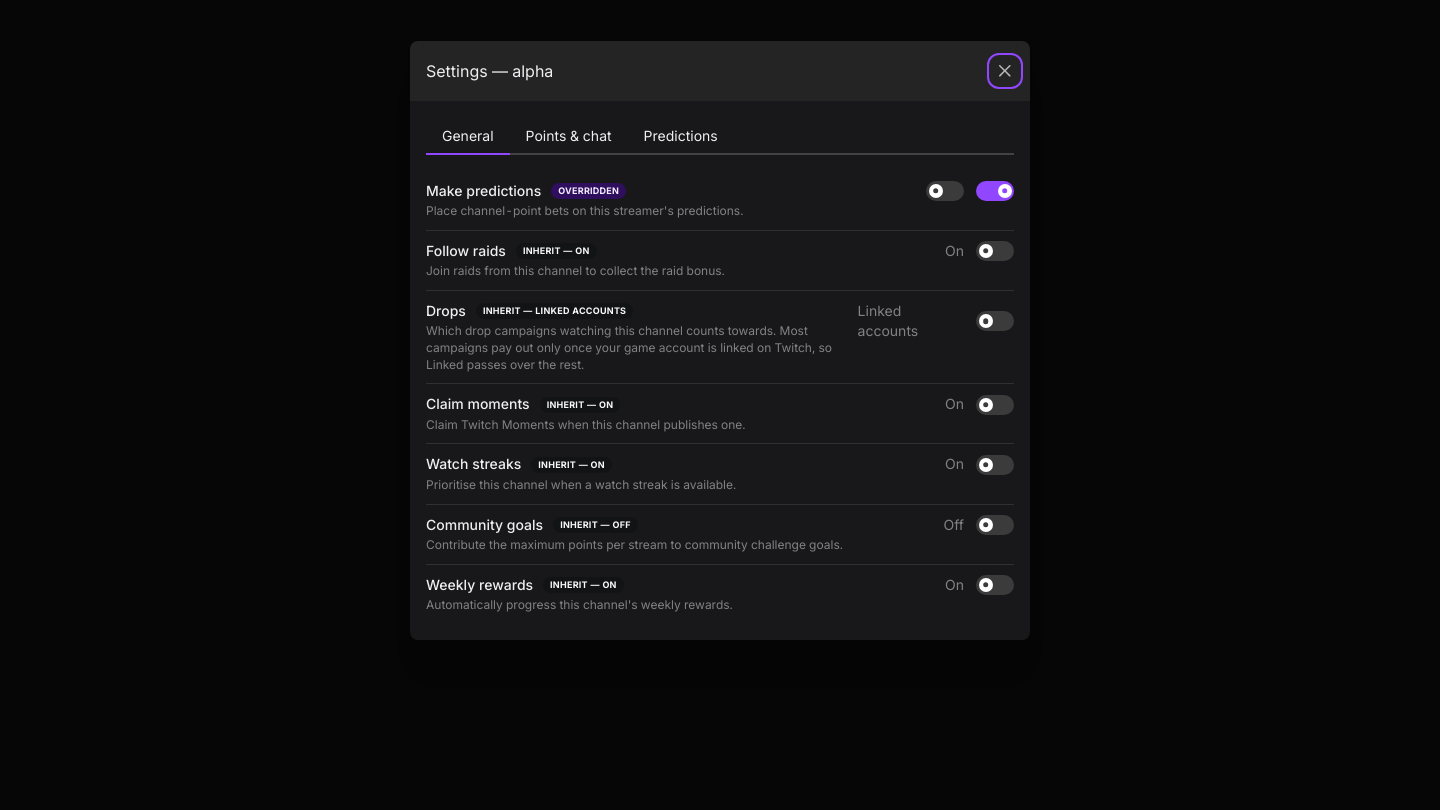
Test: predictions are disabled when the streamer does not bet
Click the tab "Predictions" at (681, 136), box [628,118,734,154]
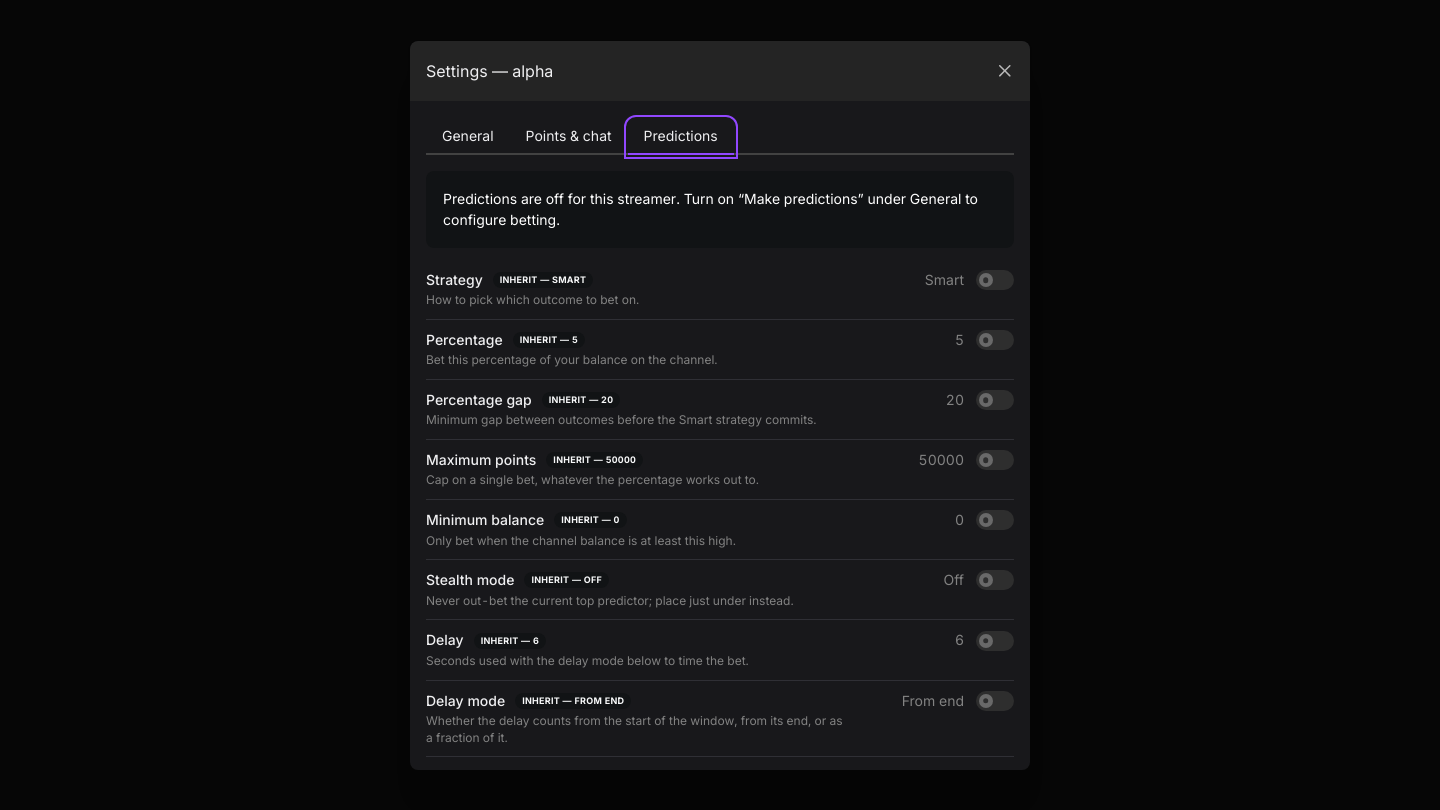
Now the message with test id "predictions-disabled-note" is shown, box [426,170,1014,248]
